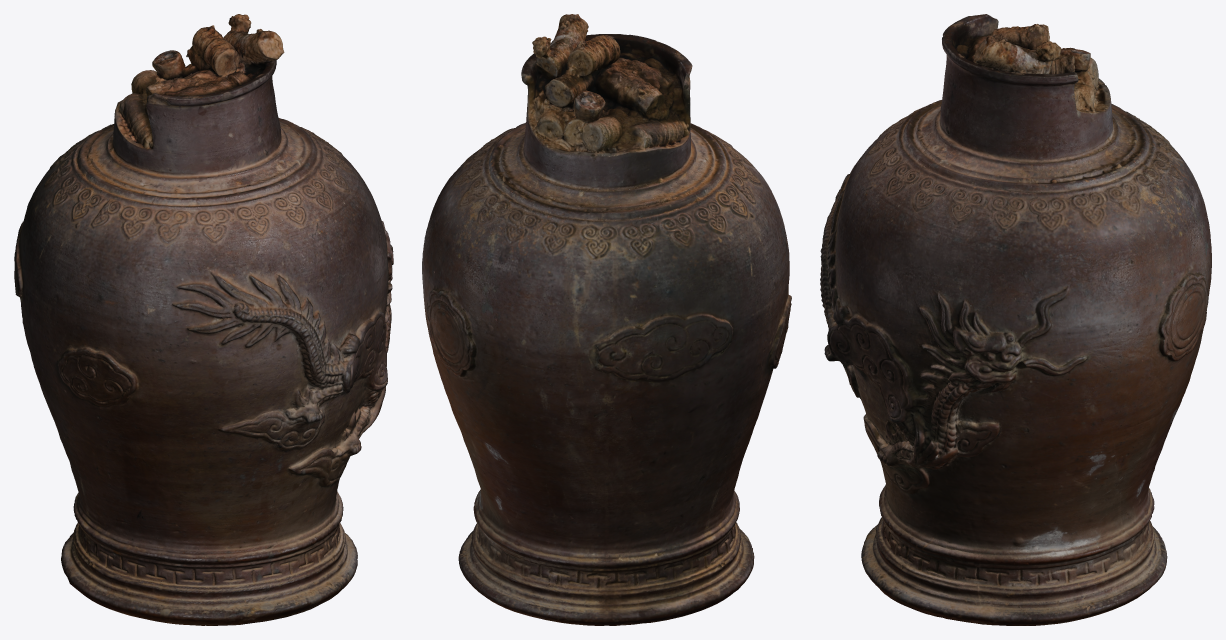
The model's file is BronzeCoinJar.fbx.
3 renders of one model, left to right at view 1: azimuth 30°, elevation 25°; view 2: azimuth 150°, elevation 25°; view 3: azimuth 270°, elevation 25°, orthographic. The views are drawn at different scales.
Visible parts, largest first — view 1: BronzeCoinJar; view 2: BronzeCoinJar; view 3: BronzeCoinJar.
Boxes of the visible parts, x1,y1,x2,y2 form: BronzeCoinJar: (14, 14, 393, 625); BronzeCoinJar: (422, 14, 791, 625); BronzeCoinJar: (820, 14, 1211, 625).
Size of the model in its own units: 0.2604 by 0.3999 by 0.2582.
